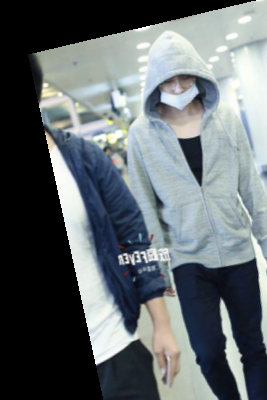mask_weared_incorrect: (122, 28, 234, 120)
